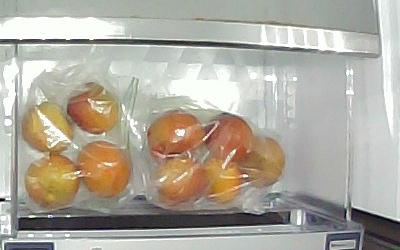prune_vinyl: (76, 140, 132, 198), (24, 154, 80, 209), (147, 109, 205, 160), (65, 82, 120, 135), (21, 102, 73, 154), (153, 157, 206, 203), (204, 114, 254, 162), (241, 135, 286, 187), (200, 157, 243, 203)
